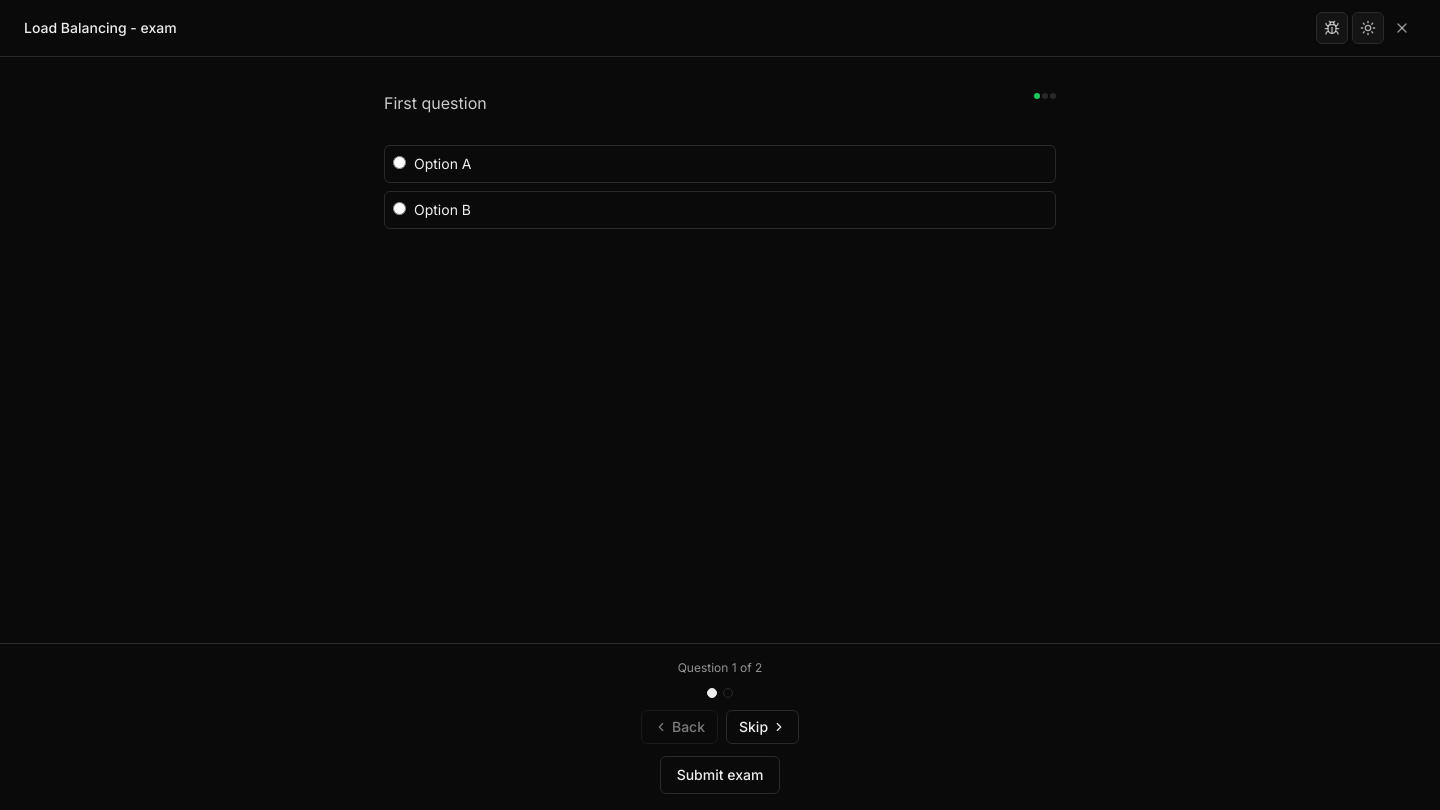
Test: ExamShell › shows the unanswered-confirm dialog with the correct count when submitting early
Click the button "Submit exam" at (720, 775), box 660,756 -> 780,794
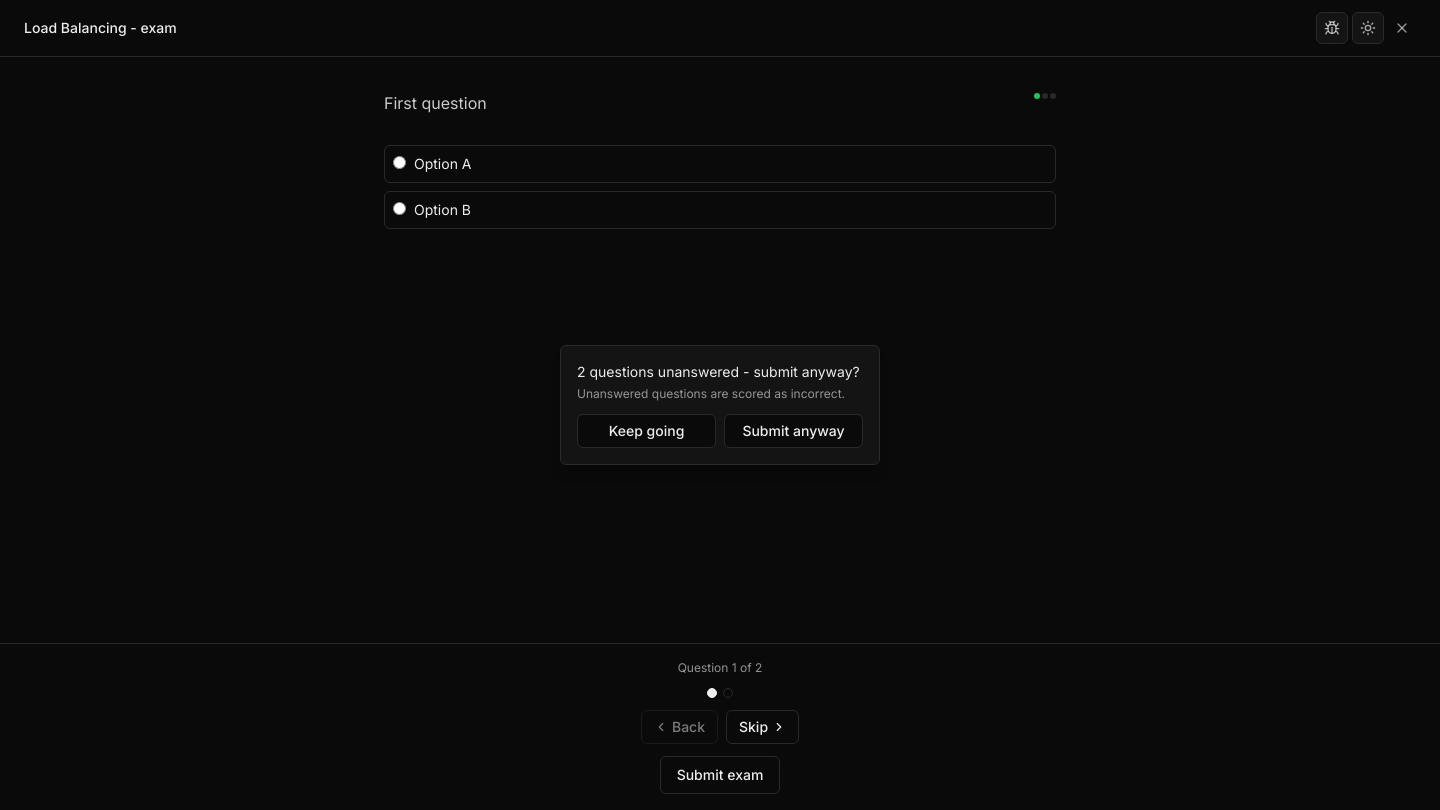
Check: the text "2 questions unanswered - submit anyway?" is shown, box 577,362 -> 863,382
